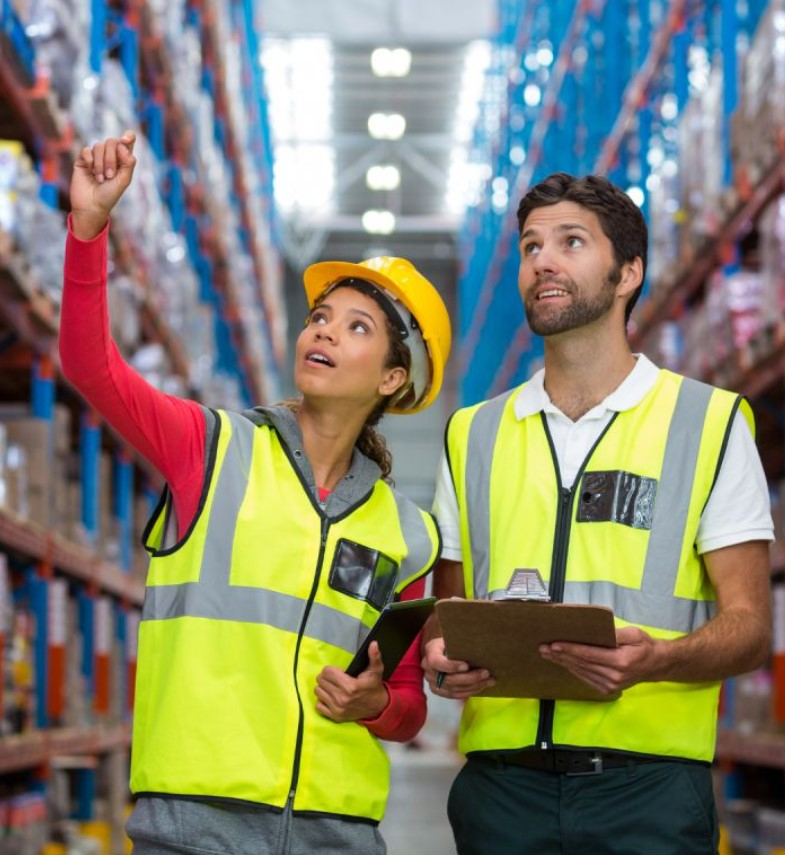worker: (128, 257, 448, 823), (449, 198, 741, 764)
